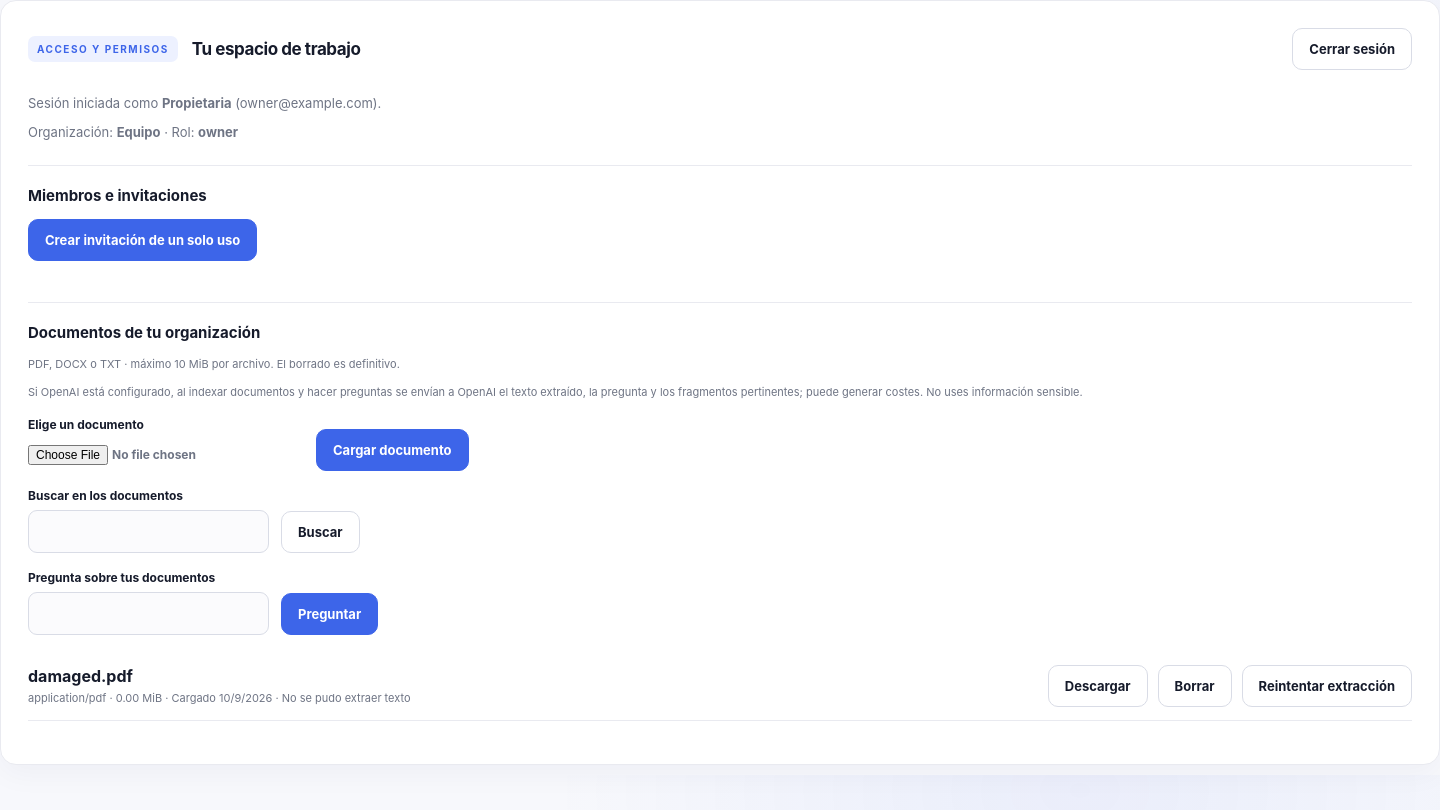
Test: AuthPanel › shows extraction failures and lets the user retry processing
The image size is (1440, 810).
Expected: the text "No se pudo extraer texto" is shown, [282, 691, 411, 705]
Click the button "Reintentar extracción": coordinates (1327, 686) [1242, 665, 1412, 707]
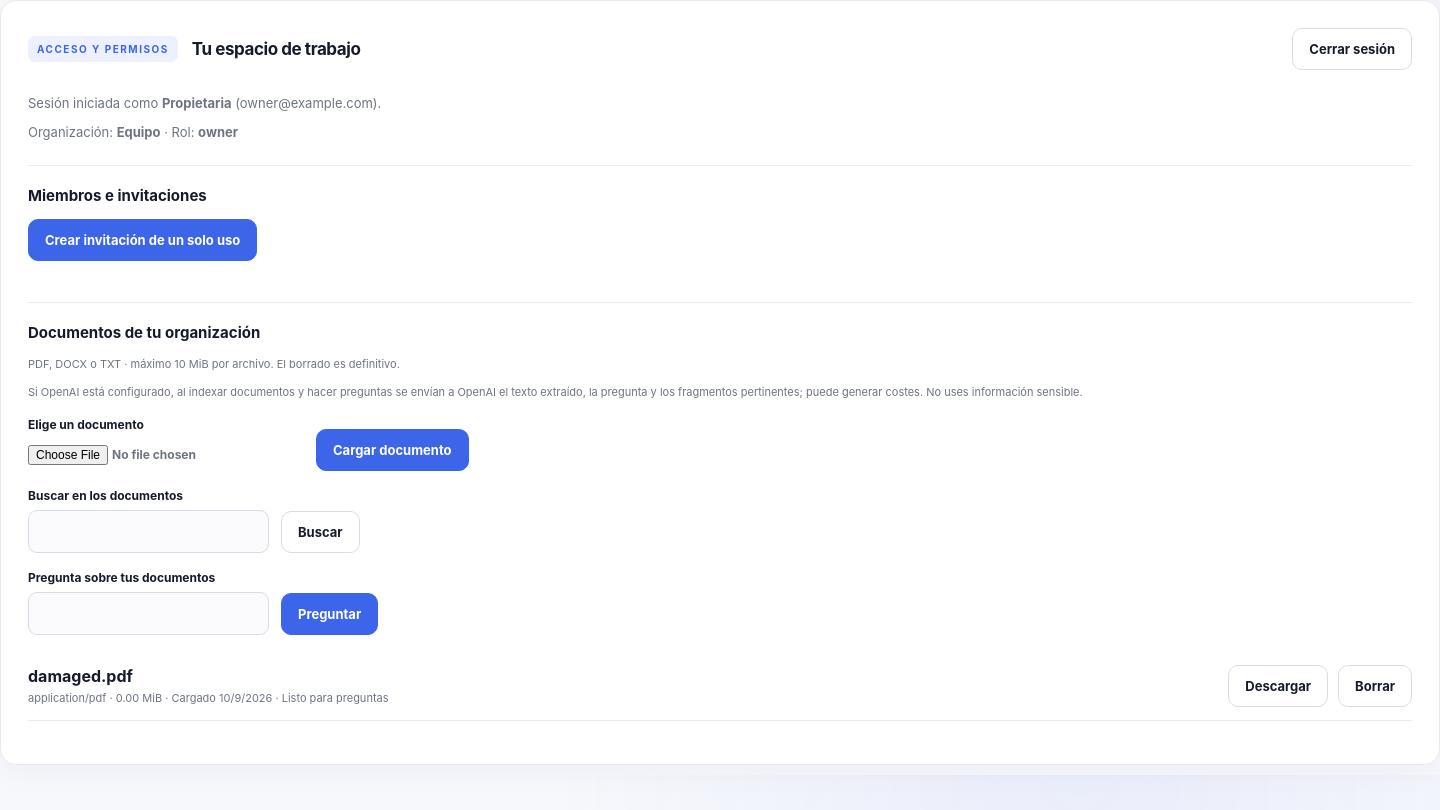
Now the text "Listo para preguntas" is shown, box [282, 691, 388, 705]
